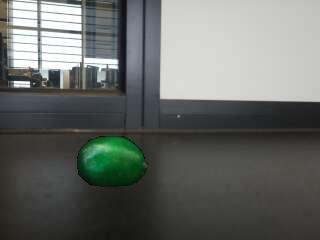Lime: (76, 135, 150, 188)
